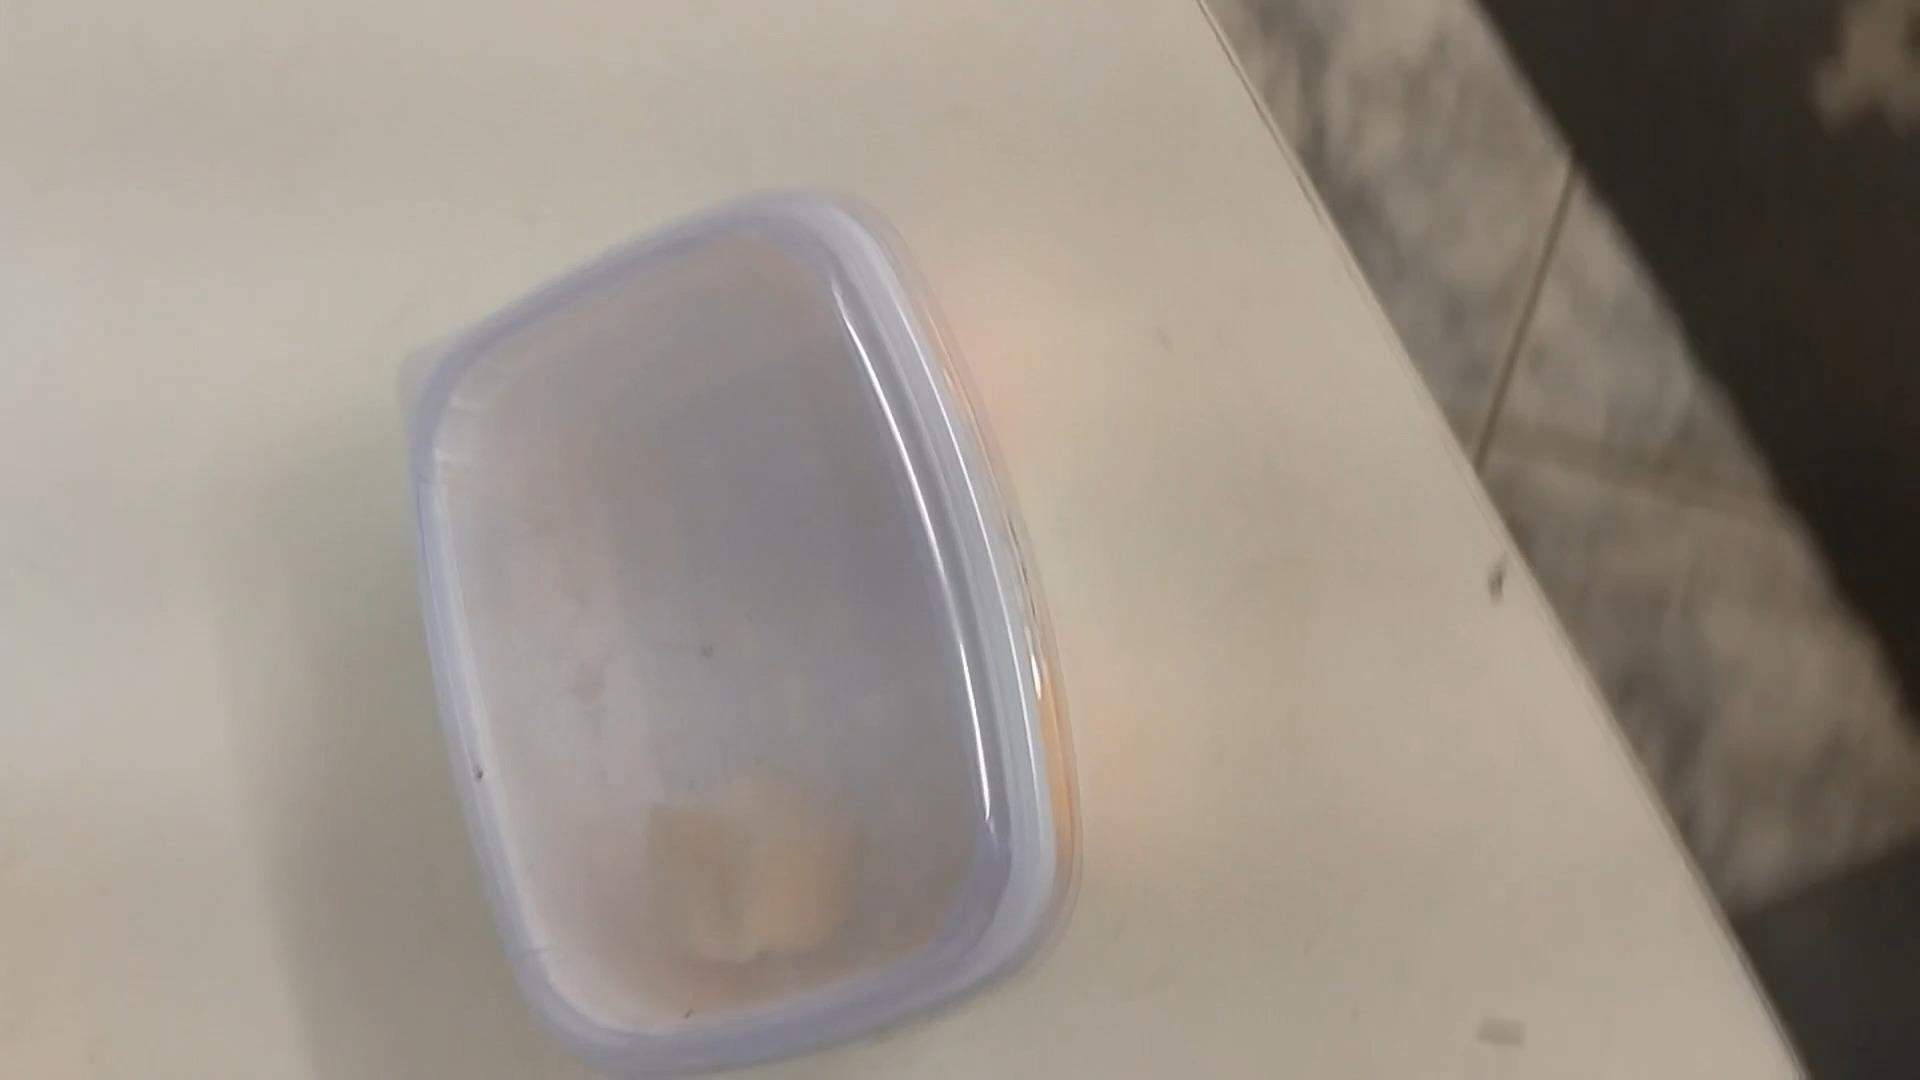butter: (405, 191, 1067, 1071)
